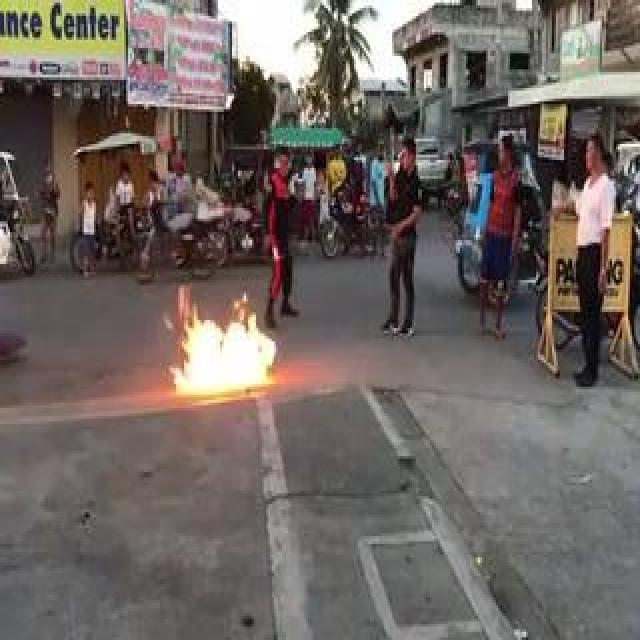Smoke: (170, 291, 278, 400)
